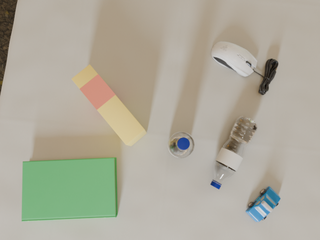book: (22, 158, 117, 221)
bottle: (211, 116, 258, 189), (167, 132, 195, 158)
box: (72, 65, 146, 146)
mouse: (211, 42, 257, 76)
toy_car: (246, 187, 280, 222)
